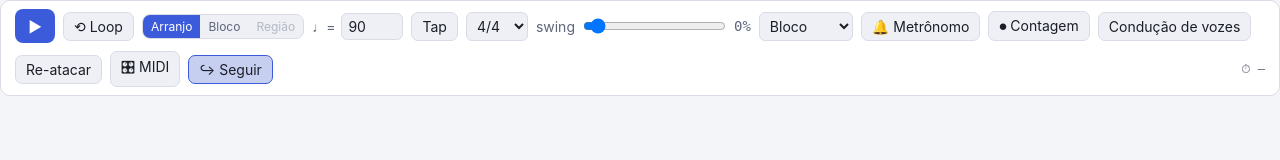
Test: campo de BPM › limita ao sair e restaura o valor se vazio
This screenshot has width=1280, height=160.
Replace the text in the number field named "BPM" with "120" at (372, 26), box [341, 12, 403, 40]
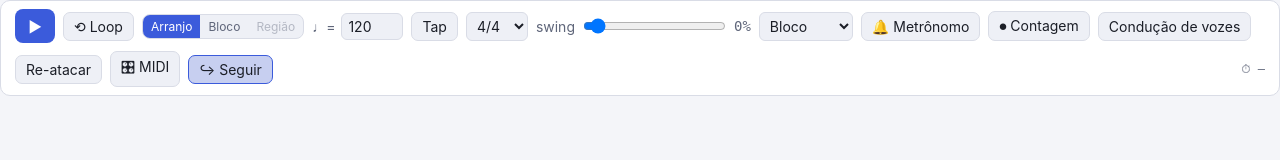
Replace the text in the number field named "BPM" with "999" at (372, 26), box [341, 12, 403, 40]
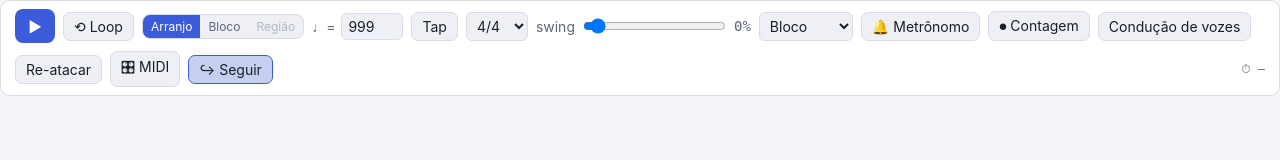
Leave the number field named "BPM", box [341, 12, 403, 40]
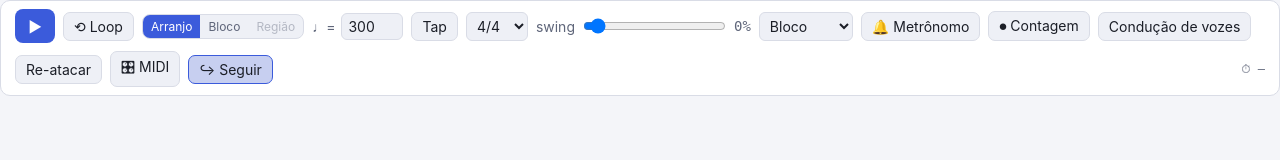
expect the number field named "BPM" holds "300": met
Clear the number field named "BPM" at (372, 26), box [341, 12, 403, 40]
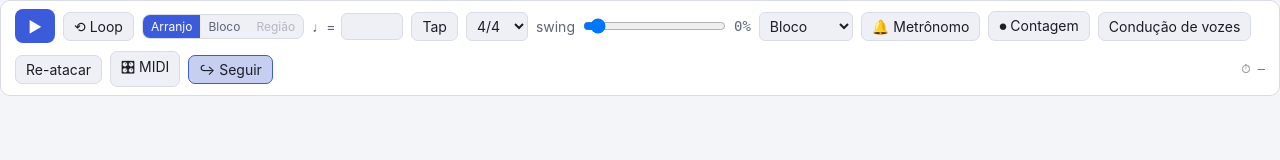
Leave the number field named "BPM", box [341, 12, 403, 40]
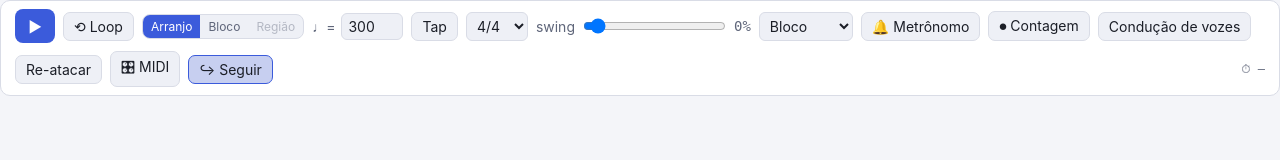
expect the number field named "BPM" holds "300": met, box [341, 12, 403, 40]
